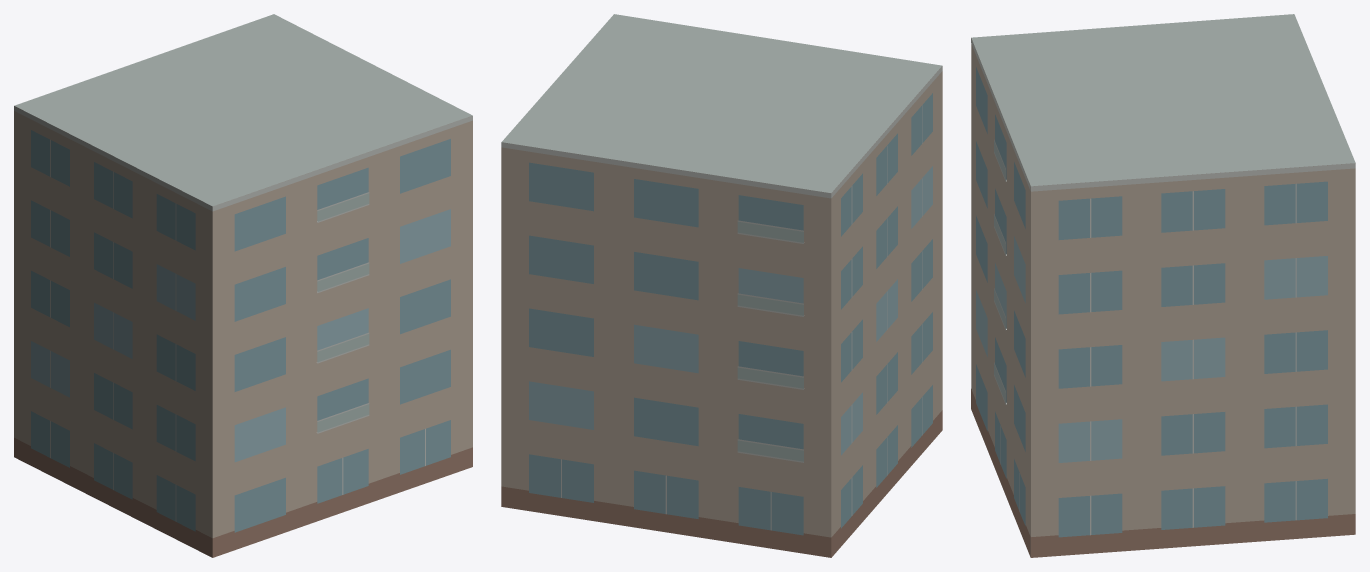
Rendered from survey-upis-32889390.glb.
3 renders of one model, left to right at view 1: azimuth 30°, elevation 25°; view 2: azimuth 150°, elevation 25°; view 3: azimuth 270°, elevation 25°, orthographic. The views are drawn at different scales.
Visible parts, largest first — view 1: survey-upis-32889390.tmp; view 2: survey-upis-32889390.tmp; view 3: survey-upis-32889390.tmp.
Boxes of the visible parts, <box> form: survey-upis-32889390.tmp: <box>14,14,472,557</box>; survey-upis-32889390.tmp: <box>501,14,942,557</box>; survey-upis-32889390.tmp: <box>971,14,1355,557</box>.
Size of the model in its own units: 16.92 by 17 by 15.96.
